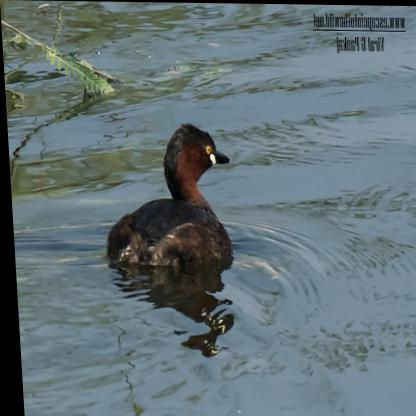Burung: (98, 122, 235, 264)
